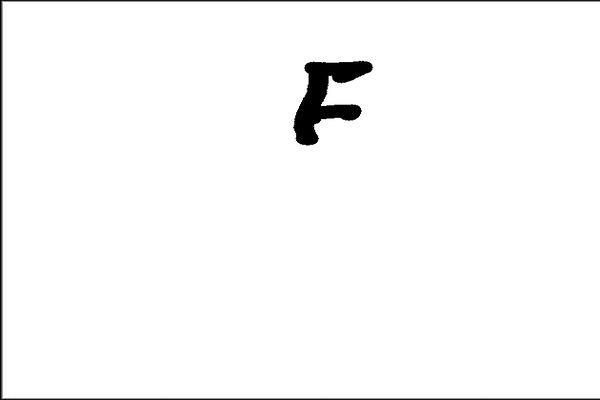F: (289, 58, 376, 149)
